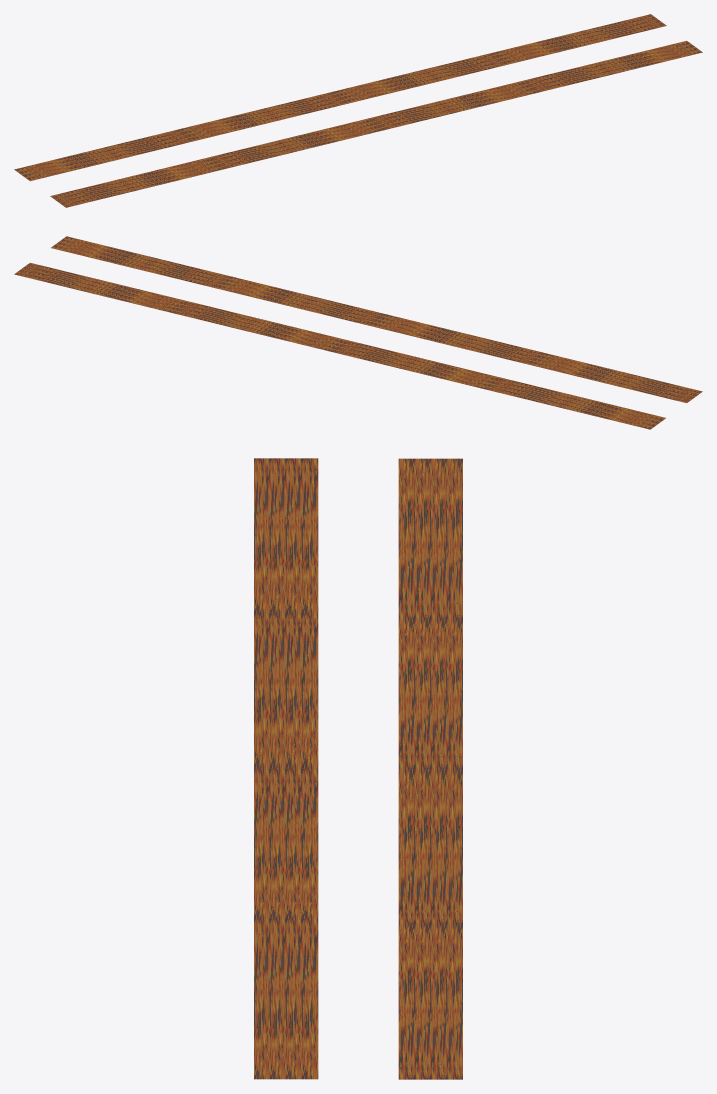
Rendered from RiversBig1.fbx.
3 views of the same model, one above another, from view 1: azimuth 30°, elevation 25°; view 2: azimuth 150°, elevation 25°; view 3: azimuth 270°, elevation 25° (orthographic). The views are drawn at different scales.
Visible parts, largest first — view 1: RiverBig002, RiverBig1; view 2: RiverBig002, RiverBig1; view 3: RiverBig002, RiverBig1.
Part boxes in pixels (<box>): RiverBig002: <box>14,14,666,181</box>; RiverBig1: <box>50,40,702,207</box>; RiverBig002: <box>14,262,665,429</box>; RiverBig1: <box>51,236,702,403</box>; RiverBig002: <box>398,458,462,1079</box>; RiverBig1: <box>254,458,318,1079</box>.
Size of the model in its own units: 172 by 0 by 24.42.
